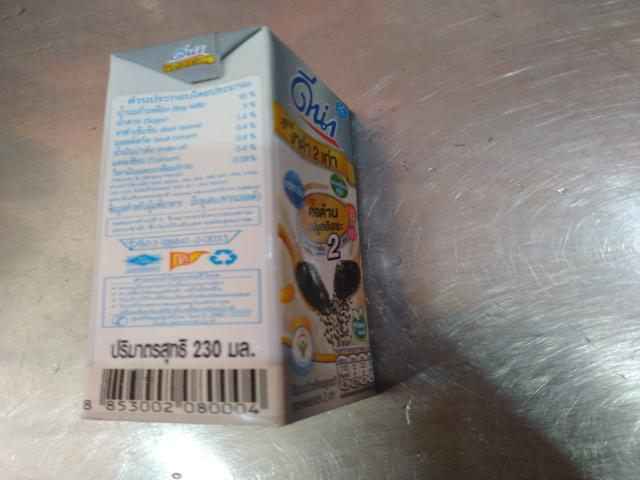drink_box: (71, 16, 429, 447)
